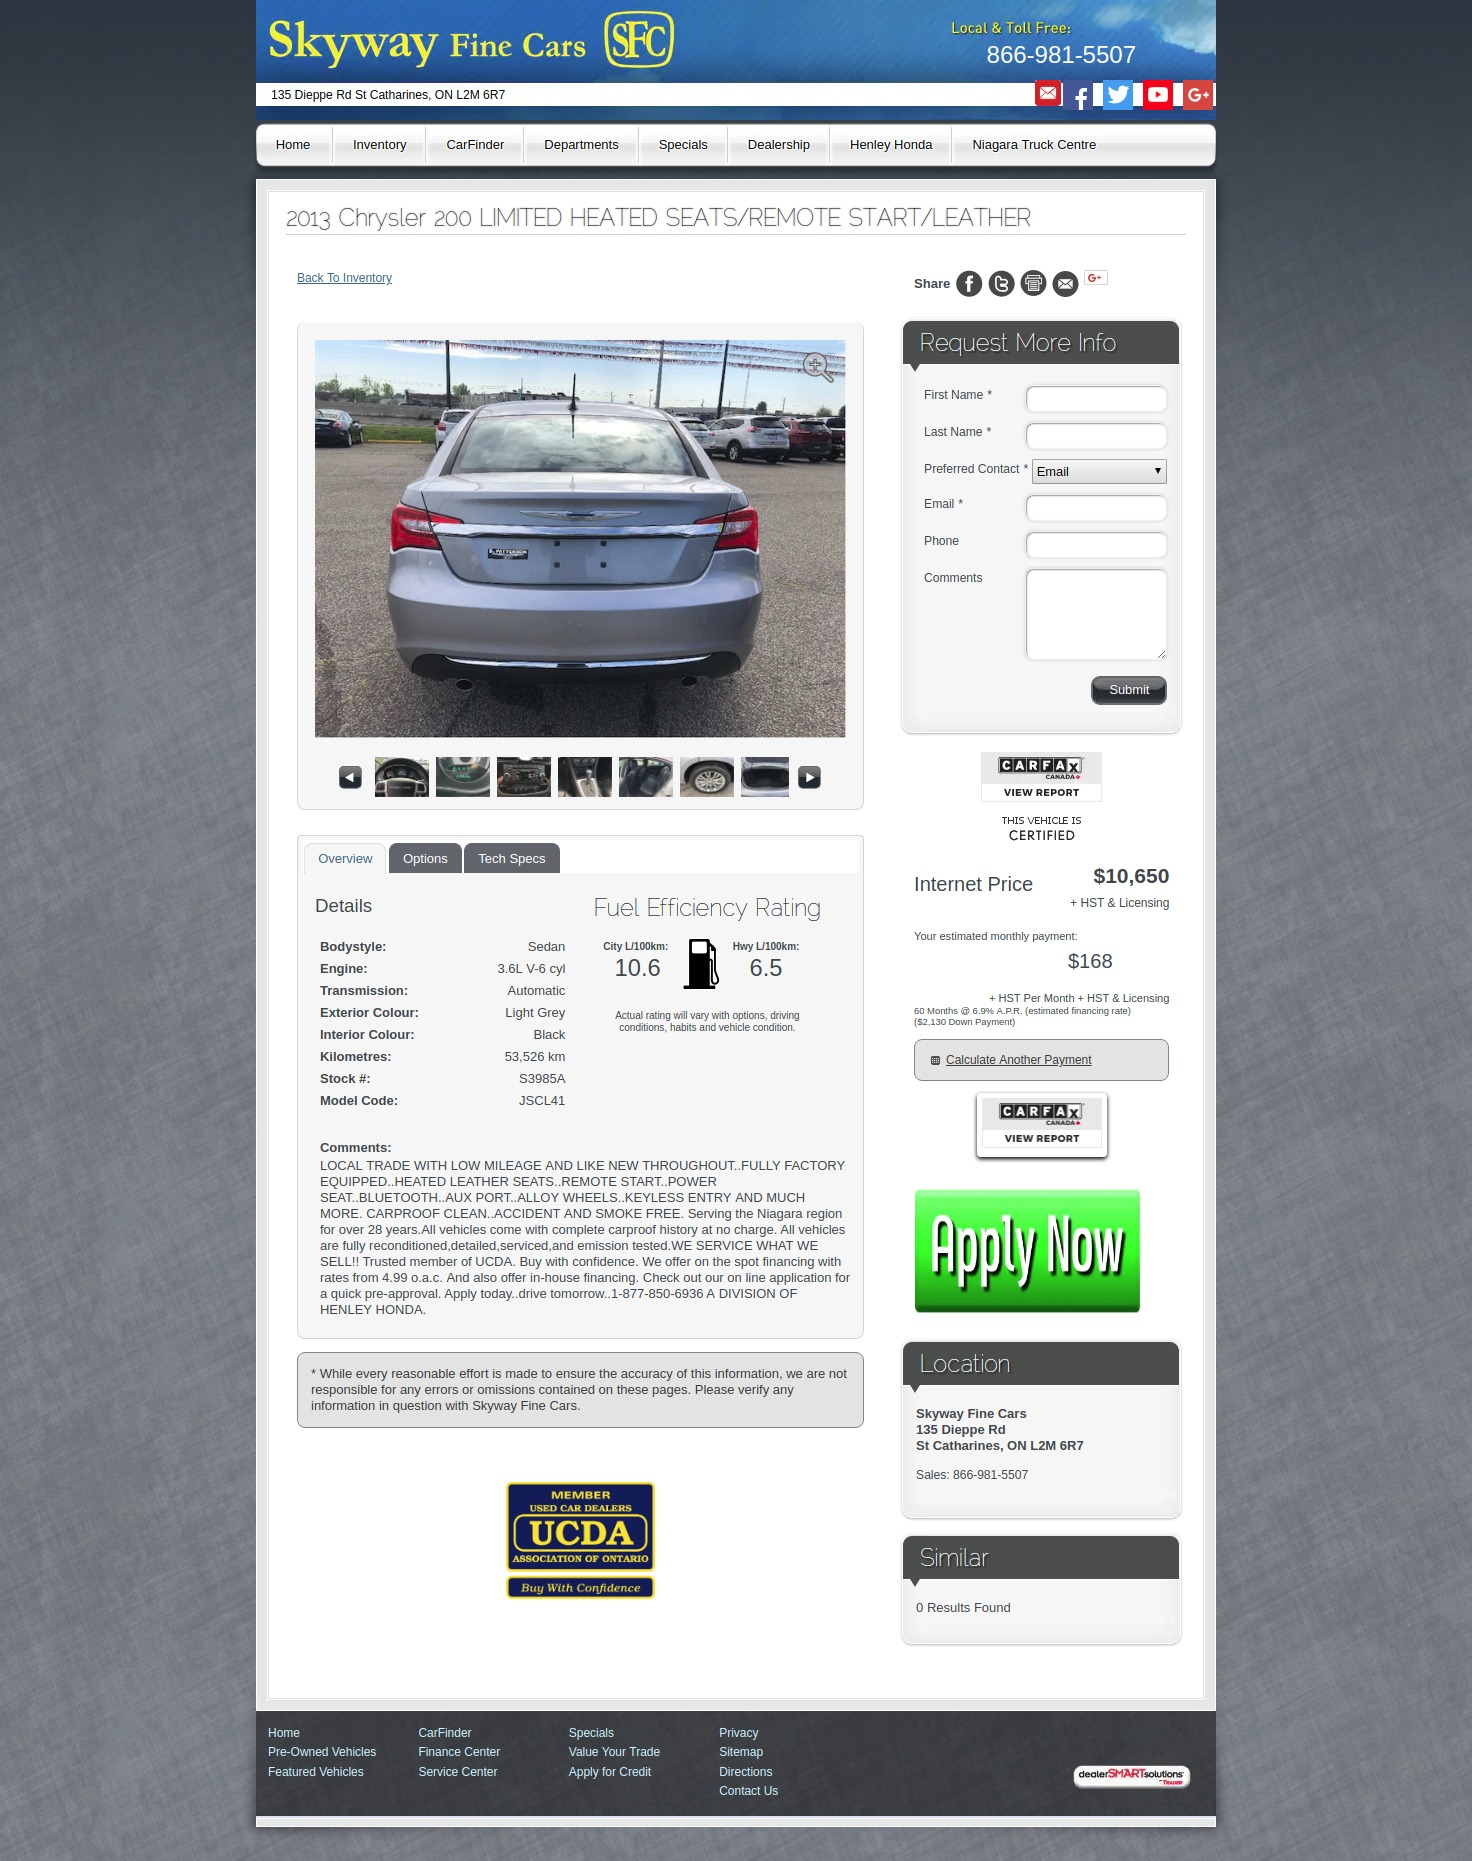car: (798, 766, 824, 792)
